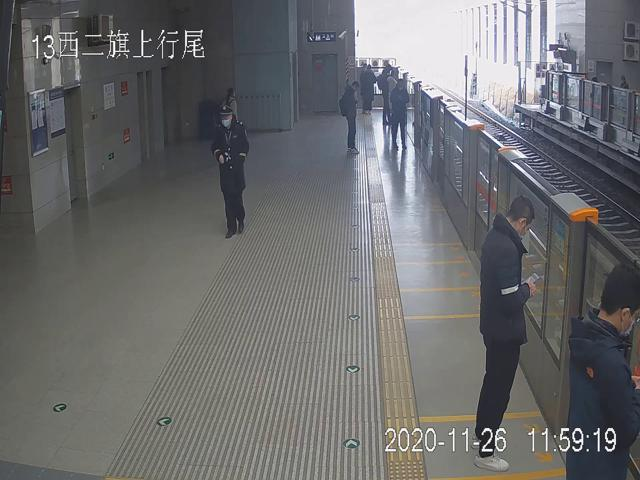person: (470, 194, 537, 470), (211, 105, 249, 240), (390, 76, 412, 150), (340, 78, 360, 155)
